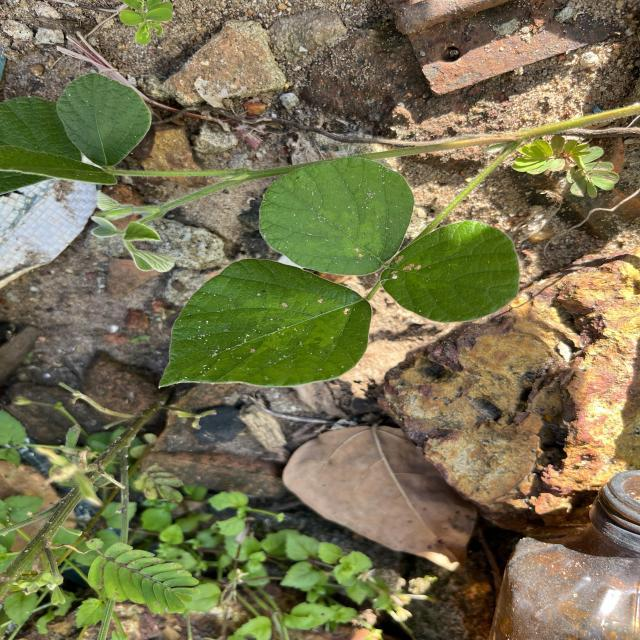Pseudarthria viscida: (155, 154, 522, 390)
